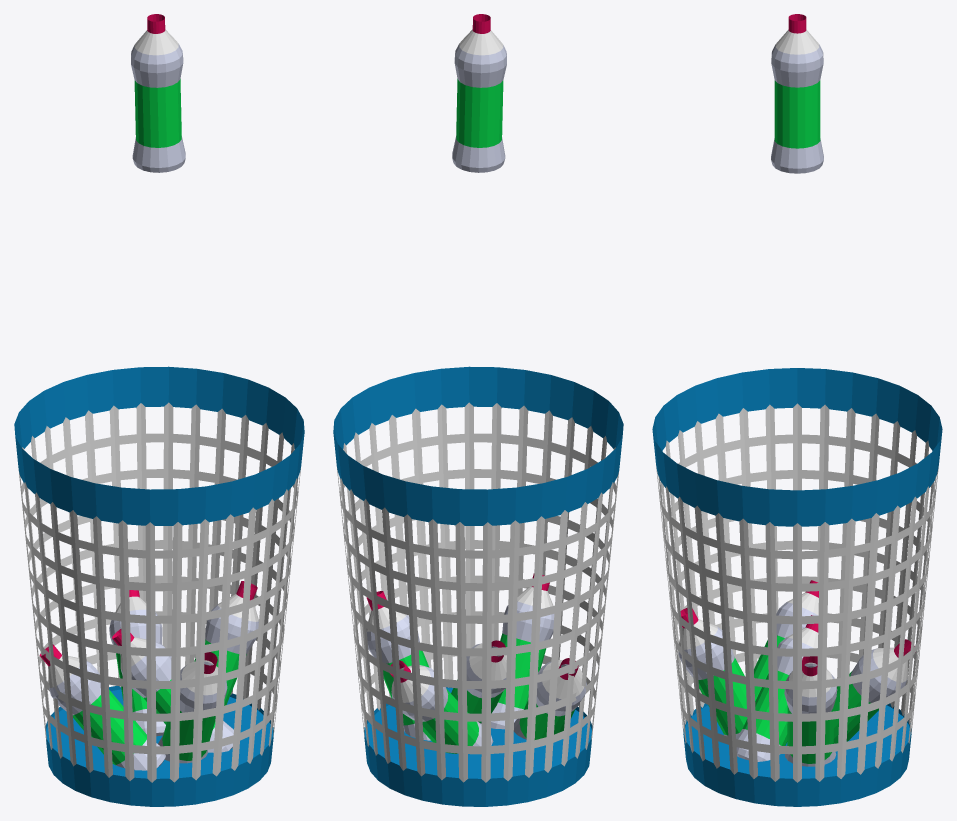
File: DustbinCan.fbx
3 renders of one model, left to right at view 1: azimuth 30°, elevation 25°; view 2: azimuth 150°, elevation 25°; view 3: azimuth 270°, elevation 25°, orthographic.
Visible parts, largest first — view 1: Cylinder, Plane.006, Plane.005, Plane.001, Plane.004, Plane.003, Plane.002; view 2: Cylinder, Plane.006, Plane.001, Plane.002, Plane.005, Plane.003, Plane.004; view 3: Cylinder, Plane.006, Plane.001, Plane.004, Plane.003, Plane.002, Plane.005.
Part boxes in pixels (x1,y1,x2,y2): Cylinder: (14, 366, 304, 806); Plane.006: (131, 14, 185, 172); Plane.005: (39, 644, 165, 770); Plane.001: (158, 652, 227, 763); Plane.004: (112, 629, 233, 752); Plane.003: (194, 581, 258, 705); Plane.002: (109, 590, 165, 736); Cylinder: (333, 366, 623, 806); Plane.006: (452, 14, 506, 172); Plane.001: (481, 573, 554, 729); Plane.002: (390, 660, 493, 753); Plane.005: (513, 658, 586, 739); Plane.003: (366, 591, 430, 740); Plane.004: (451, 640, 506, 723); Cylinder: (652, 368, 942, 806); Plane.006: (771, 14, 823, 173); Plane.001: (678, 608, 756, 737); Plane.004: (736, 615, 818, 761); Plane.003: (784, 656, 837, 766); Plane.002: (833, 639, 915, 743); Plane.005: (754, 580, 818, 697).
Size of the model in its own units: 260 by 733 by 260.
